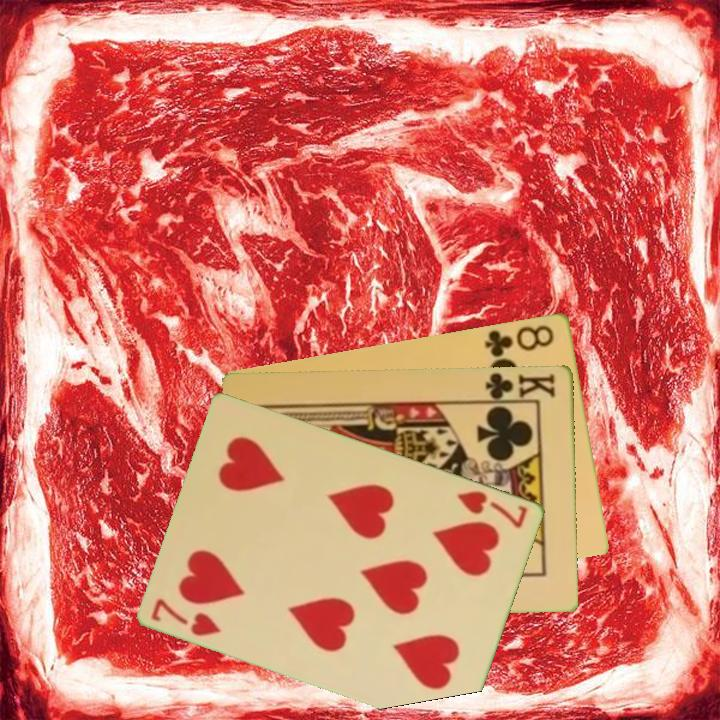7h: (148, 594, 225, 639), (454, 487, 531, 531)
8c: (481, 321, 557, 360)
Kc: (479, 369, 558, 404)
